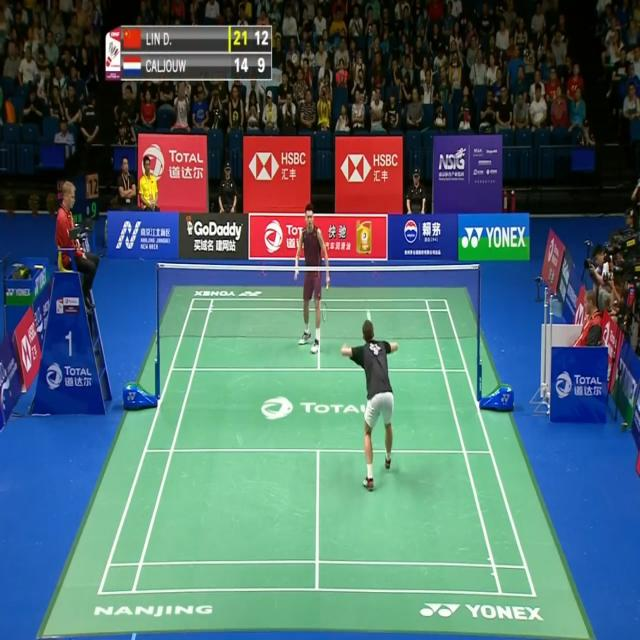Player1: (338, 300, 402, 506)
Player2: (291, 198, 333, 366)
